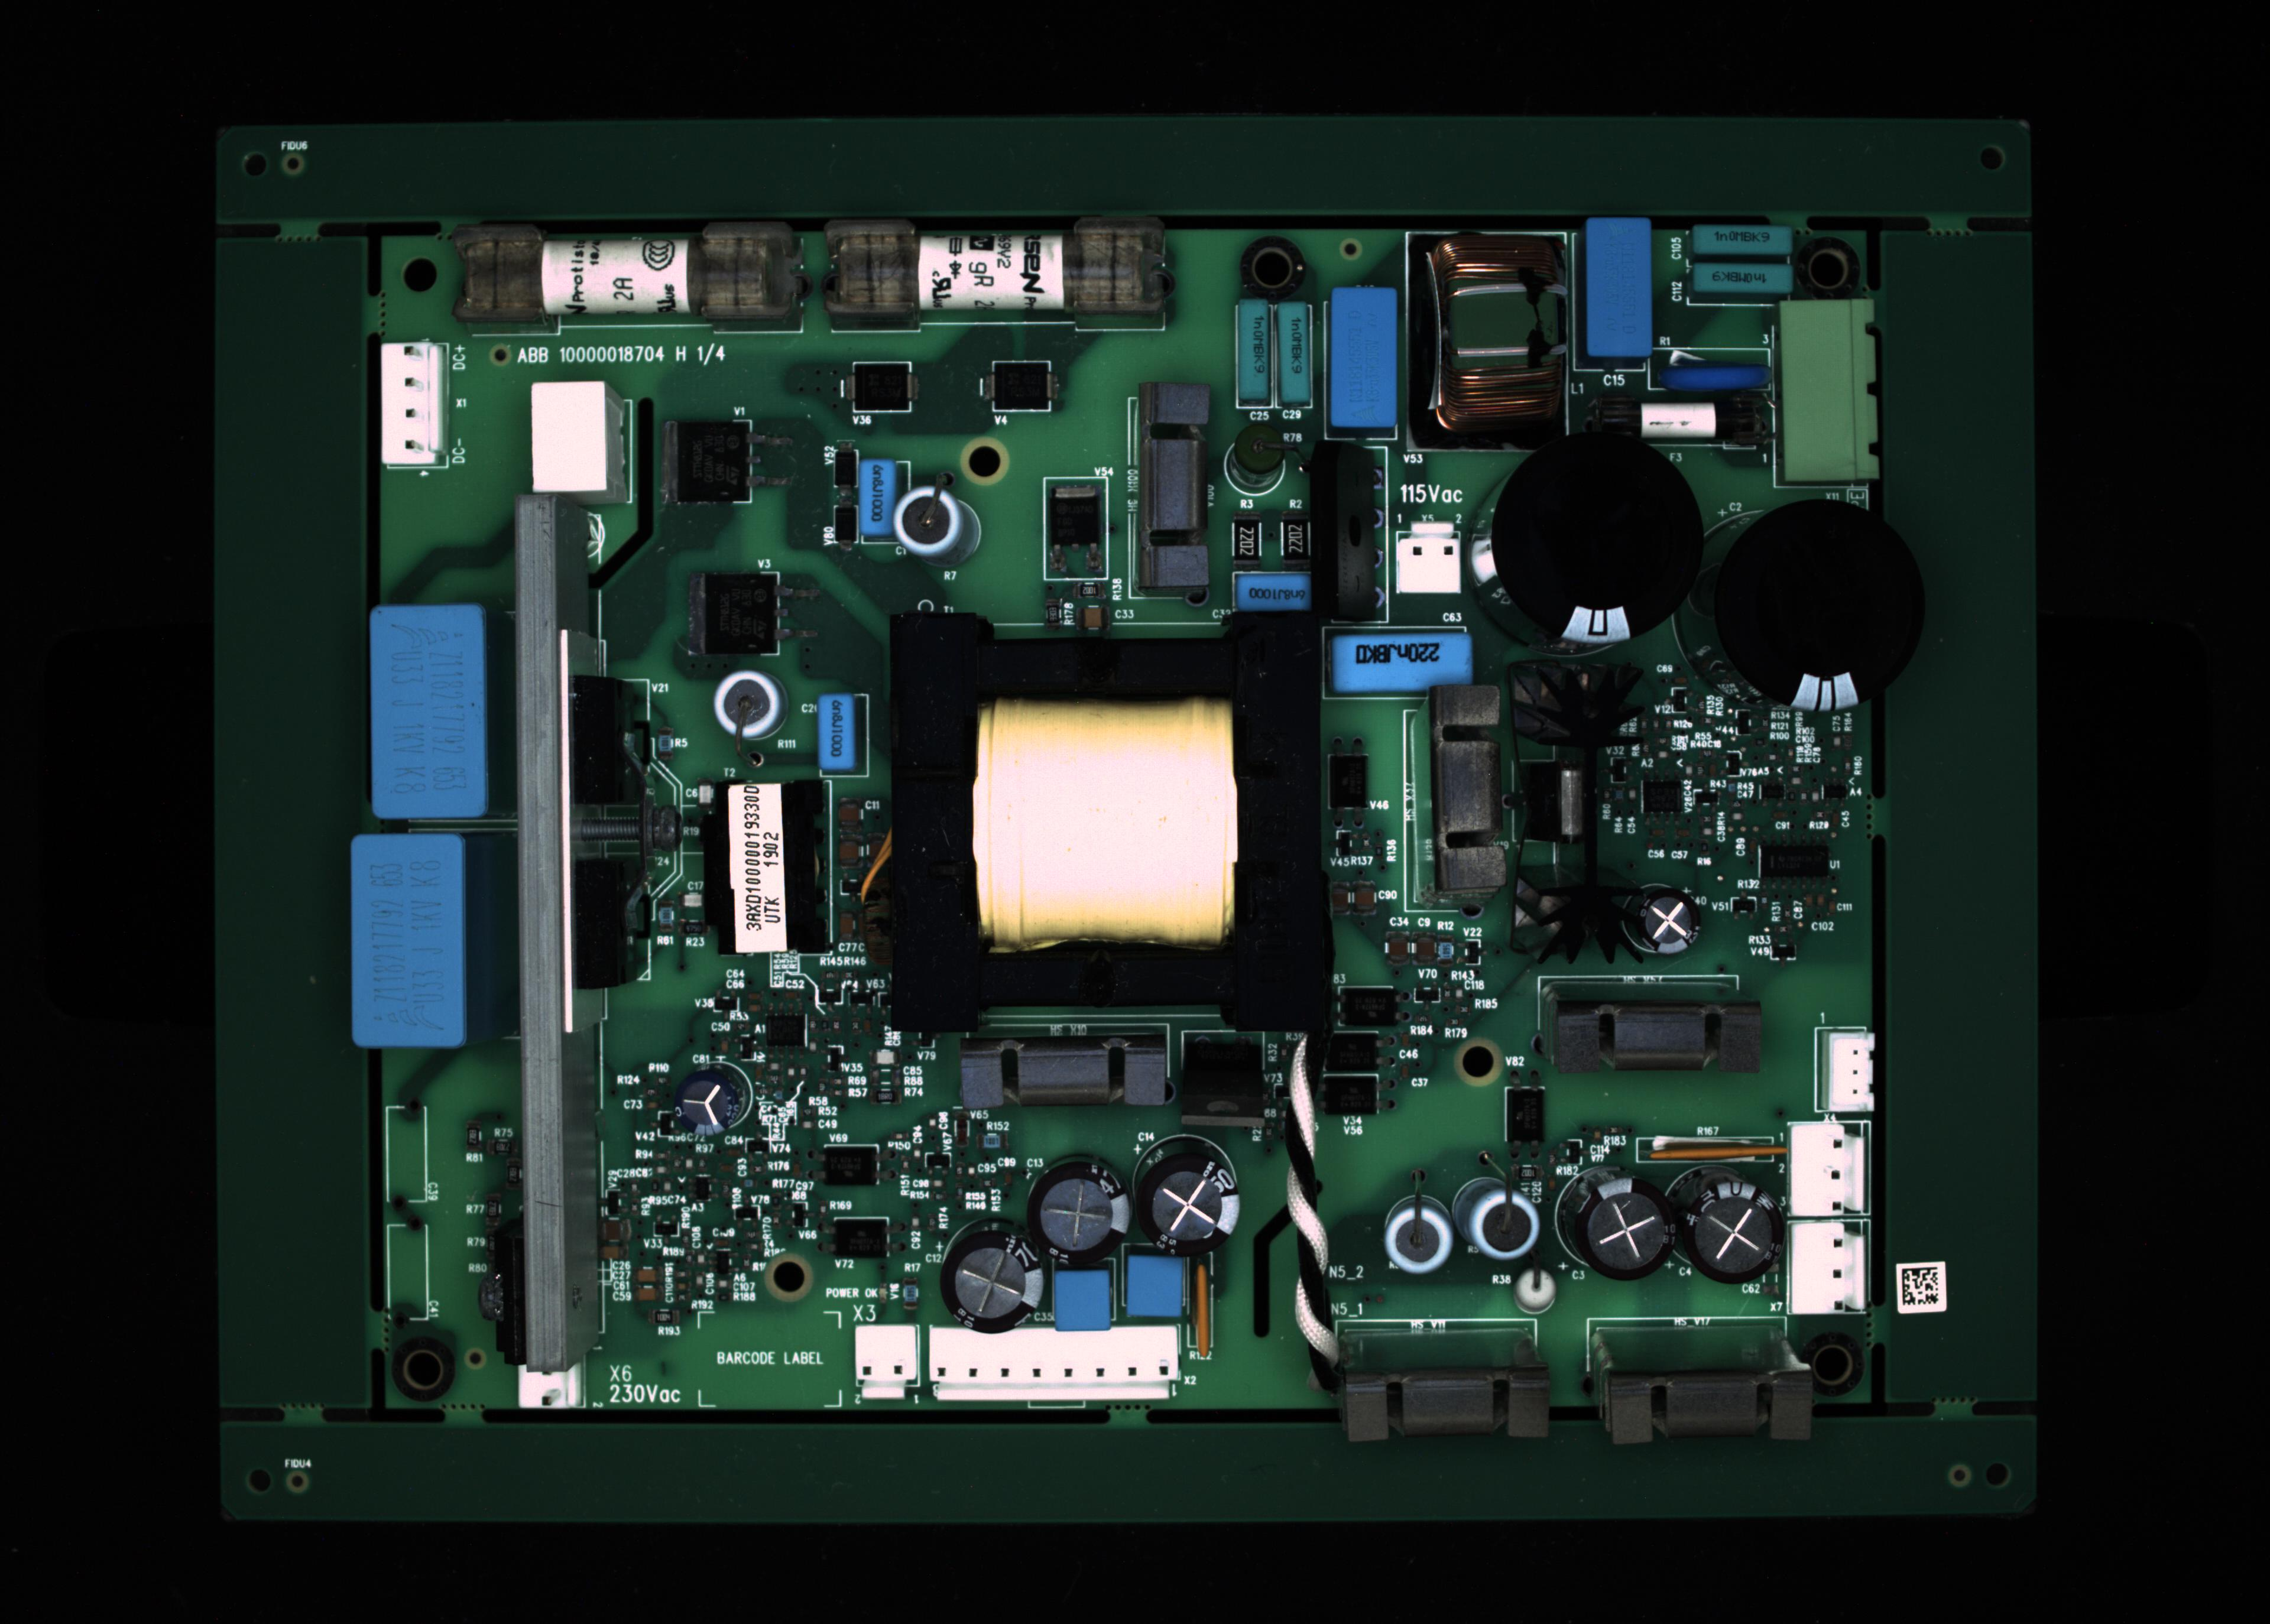10_p: (1648, 346, 1772, 394)
11_q: (1783, 299, 1878, 482)
12_r: (1591, 387, 1776, 455)
13_s: (380, 337, 443, 468)
14_t: (529, 380, 635, 489)
15_e: (856, 460, 891, 536)
16_k: (891, 464, 985, 569)
17_u: (1127, 385, 1206, 608)
18_v: (1234, 569, 1317, 615)
19_w: (1338, 636, 1470, 687)
1_a: (455, 216, 807, 336)
20_f: (1393, 517, 1470, 599)
21_g: (1475, 429, 1709, 670)
22_g: (1714, 482, 1929, 719)
23_h: (367, 598, 489, 831)
24_h: (350, 828, 469, 1044)
25_f: (513, 1364, 589, 1415)
26_f: (851, 1323, 927, 1403)
27_x: (925, 1323, 1185, 1415)
28_i: (1129, 1120, 1241, 1239)
29_i: (1027, 1153, 1134, 1274)
2_a: (819, 216, 1175, 330)
30_i: (941, 1229, 1046, 1338)
31_j: (1048, 1269, 1117, 1330)
32_j: (1122, 1248, 1190, 1320)
33_e: (816, 692, 855, 766)
34_k: (1373, 1199, 1465, 1281)
35_k: (1456, 1178, 1542, 1271)
36_i: (1556, 1164, 1672, 1295)
37_i: (1663, 1160, 1786, 1290)
38_l: (1343, 1374, 1553, 1446)
39_l: (1602, 1367, 1820, 1450)
3_b: (1236, 295, 1270, 399)
40_l: (1539, 1005, 1769, 1069)
41_y: (1437, 678, 1505, 893)
42_z: (1827, 1030, 1873, 1109)
43_m: (1792, 1120, 1862, 1214)
44_m: (1788, 1225, 1864, 1311)
45_i: (679, 1065, 756, 1142)
46_n: (1338, 982, 1398, 1028)
47_n: (826, 1142, 879, 1186)
48_n: (837, 1216, 895, 1257)
49_aa: (761, 1011, 814, 1056)
4_b: (1282, 299, 1317, 399)
50_n: (1321, 1030, 1377, 1070)
51_n: (1322, 1072, 1380, 1116)
52_ab: (1331, 756, 1366, 812)
53_ac: (1656, 1130, 1790, 1165)
54_ad: (1194, 1253, 1222, 1364)
55_l: (958, 1033, 1175, 1111)
56_ae: (1176, 1033, 1261, 1120)
57_af: (1509, 647, 1635, 951)
58_i: (1630, 884, 1706, 958)
59_o: (988, 360, 1055, 413)
5_c: (1333, 285, 1396, 424)
60_o: (853, 359, 913, 411)
6_ag: (1405, 232, 1572, 452)
7_c: (1581, 221, 1651, 353)
8_d: (1686, 227, 1792, 260)
9_d: (1690, 262, 1793, 294)
